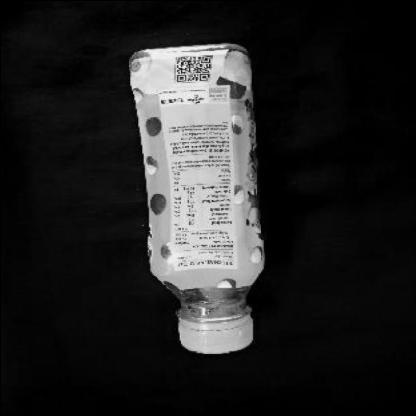plastic_bottles: (122, 40, 266, 356)
